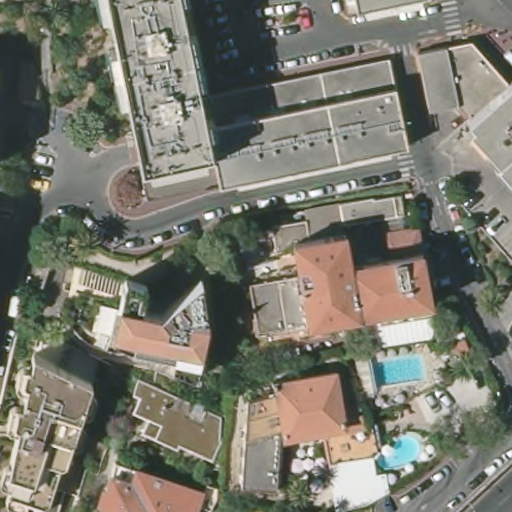pool: (366, 355, 432, 389), (376, 433, 425, 470)
